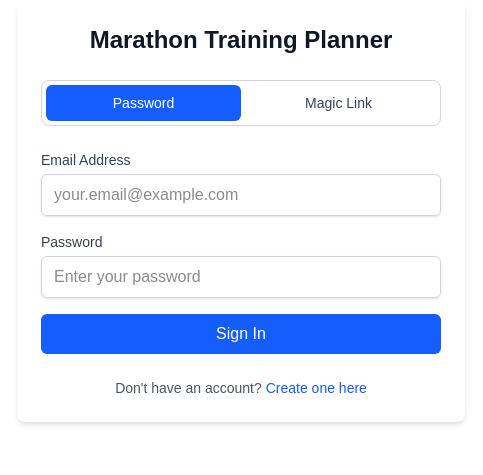
Scenario: LoginForm › Magic Link Mode › shows success message when email is sent successfully
This screenshot has width=483, height=475.
Click the button "Magic Link": (338, 103) [241, 85, 436, 121]
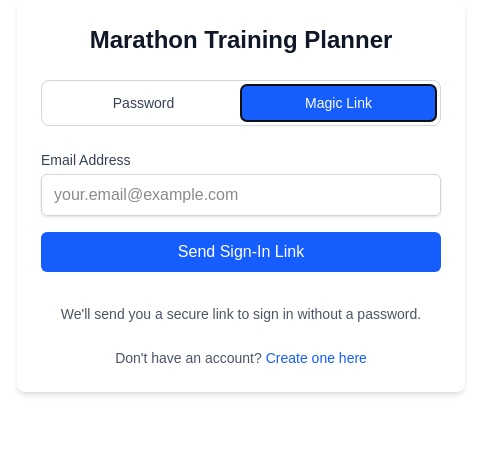
In the field labelled "Email Address": (241, 195) [41, 174, 441, 216], type "test@example.com"
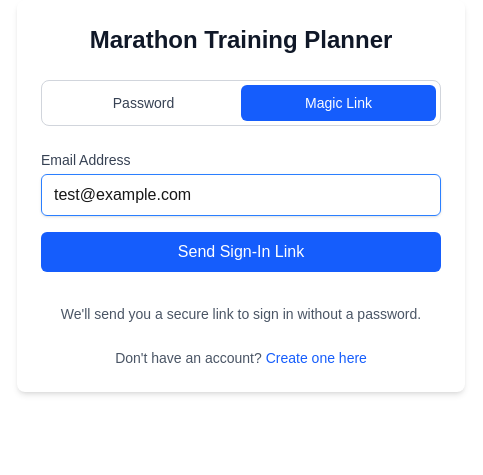
Click the button "Send Sign-In Link": (241, 252) [41, 232, 441, 272]
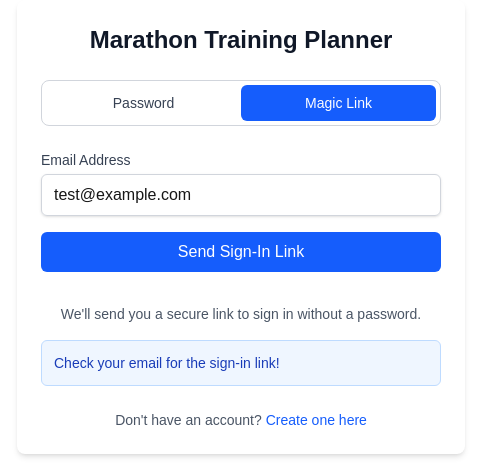
Now the text "Check your email for the sign-in link!" is shown, box [54, 355, 280, 371]
